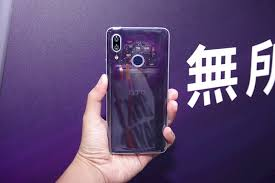htc: (102, 23, 169, 157)
